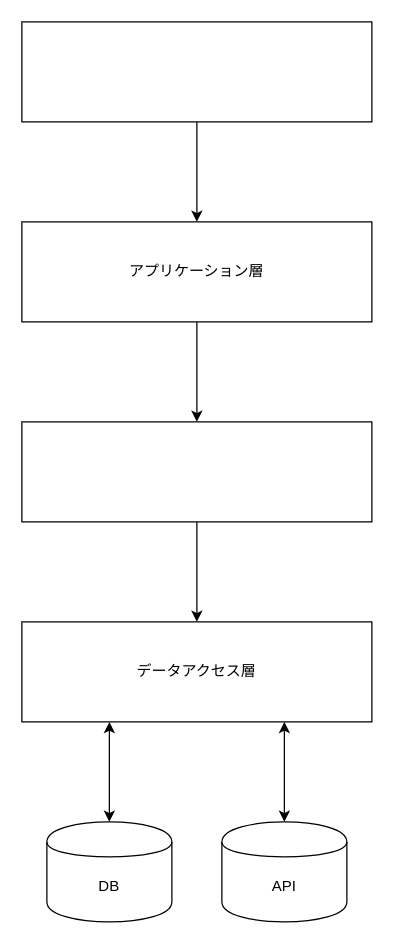
This 394x944 diagram has some shape labels left out. Each missing label, with the box of its shape:
ドメイン層: (21, 421, 372, 522)
プレゼンテーション層: (21, 21, 372, 122)
